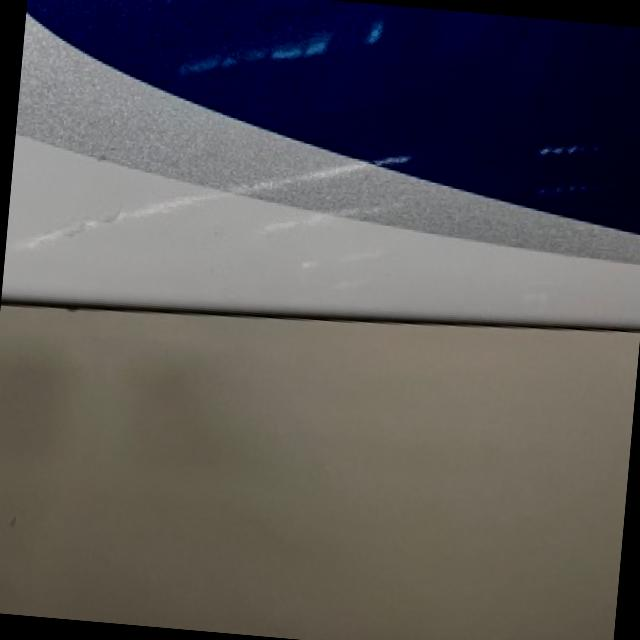healthy: (0, 0, 640, 640), (1, 0, 640, 326)
